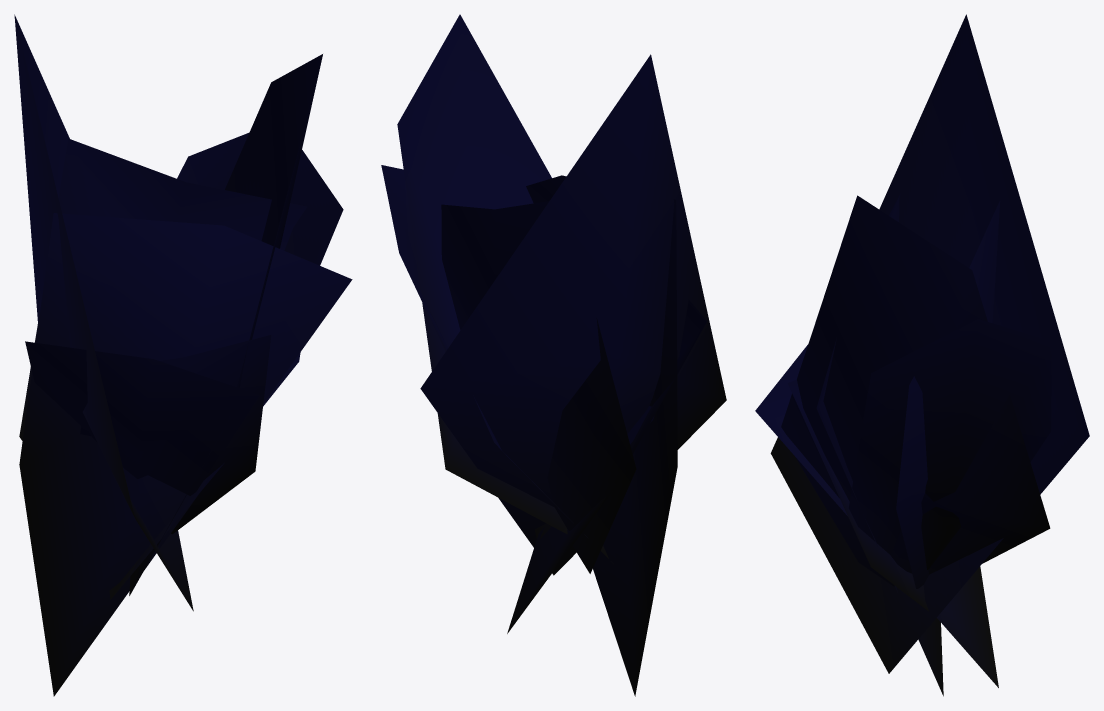
Rendered from SM_Foliage_ReedShoreA_05.fbx.
The picture shows the model from 3 angles, left to right: view 1: azimuth 30°, elevation 25°; view 2: azimuth 150°, elevation 25°; view 3: azimuth 270°, elevation 25°; orthographic projection. The views are drawn at different scales.
Visible parts, largest first — view 1: SM_Foliage_ReedShoreA_05; view 2: SM_Foliage_ReedShoreA_05; view 3: SM_Foliage_ReedShoreA_05.
Part boxes in pixels (x1=…): SM_Foliage_ReedShoreA_05: x1=14, y1=14, x2=352, y2=696; SM_Foliage_ReedShoreA_05: x1=381, y1=14, x2=726, y2=696; SM_Foliage_ReedShoreA_05: x1=755, y1=14, x2=1089, y2=696.
Size of the model in its own units: 78.67 by 76.21 by 168.
